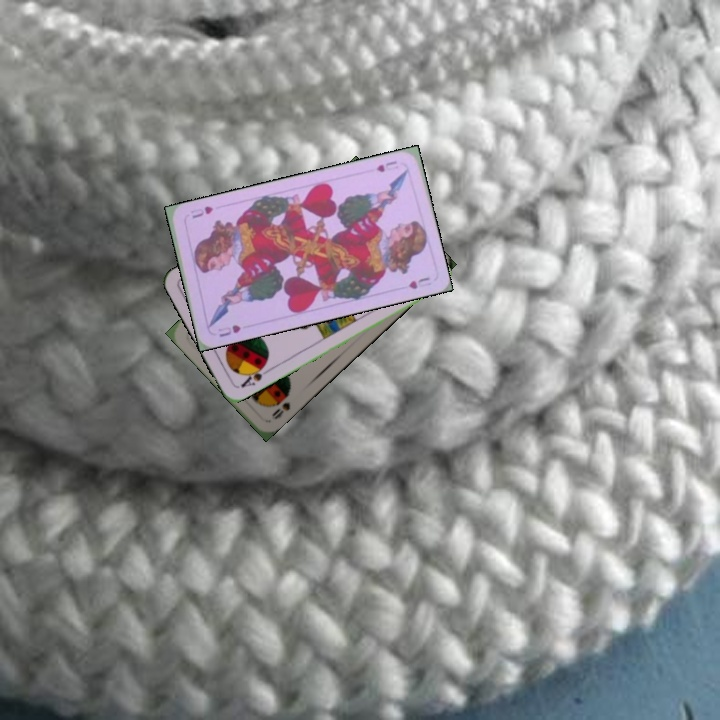HU: (214, 321, 243, 340), (372, 157, 401, 175)
SA: (237, 360, 273, 391)
SO: (267, 398, 293, 422)
